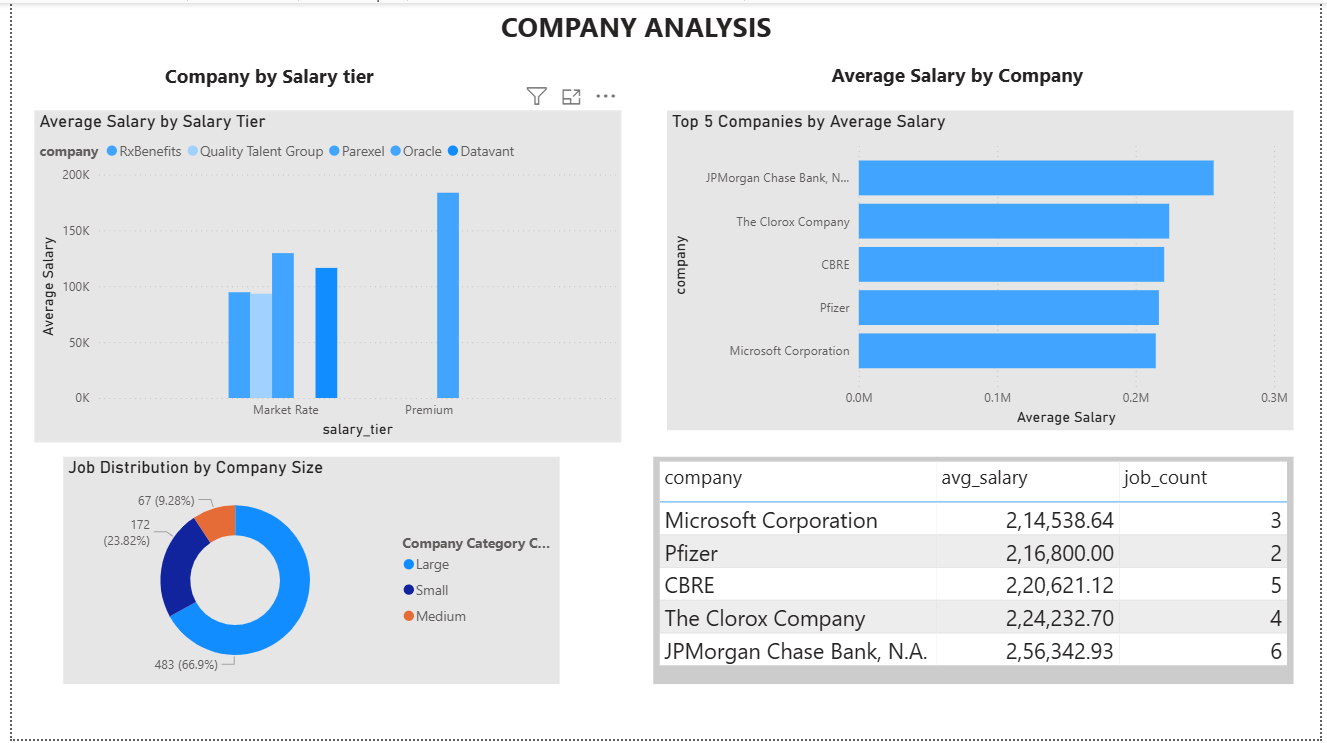

Layout of this report page (visuals, bound fields, positions):
{"tool":"powerbi","page":{"name":"Page 2","canvas":[1280,720],"ordinal":1},"visuals":[{"type":"clusteredColumnChart","title":"Average Salary by Salary Tier","fields":{"Y":["Avg(job_analysis_db view_company_analysis.avg_salary)"],"Category":["job_analysis_db view_company_benchmark.salary_tier"],"Series":["job_analysis_db view_company_analysis.company"]},"box":[22.6,104.8,573.8,325],"z":0},{"type":"clusteredBarChart","title":"Top 5 Companies by Average Salary","fields":{"Y":["Sum(job_analysis_db view_company_benchmark.avg_salary)"],"Category":["job_analysis_db view_company_benchmark.company"]},"box":[640.5,104.8,613.1,313.1],"z":1000},{"type":"tableEx","title":"Top company","fields":{"Values":["job_analysis_db view_company_analysis.company","job_analysis_db view_company_analysis.avg_salary","job_analysis_db view_company_analysis.job_count"]},"box":[627.4,444,626.2,222.6],"z":2000},{"type":"donutChart","title":"Job Distribution by Company Size","fields":{"Category":["job_analysis_db view_company_analysis.Company Category Column"],"Y":["Sum(job_analysis_db view_company_analysis.job_count)"]},"box":[50,444,485.7,222.6],"z":3000},{"type":"textbox","box":[292.9,0,634.4,77.7],"z":4000},{"type":"textbox","box":[106.8,54.1,290.5,55.4],"z":5000},{"type":"textbox","box":[755.4,52.7,343.2,60.8],"z":6000}]}

Visuals, with their boxes in screenshot pixels (x1, y1, x2, y2), scaled from the page's 1280x720 canvas onto the 1327x743 screenshot:
"Average Salary by Salary Tier" clusteredColumnChart: left=23, top=108, right=618, bottom=444
"Top 5 Companies by Average Salary" clusteredBarChart: left=664, top=108, right=1300, bottom=431
"Top company" tableEx: left=650, top=458, right=1300, bottom=688
"Job Distribution by Company Size" donutChart: left=52, top=458, right=555, bottom=688
textbox: left=304, top=0, right=961, bottom=80
textbox: left=111, top=56, right=412, bottom=113
textbox: left=783, top=54, right=1139, bottom=117
